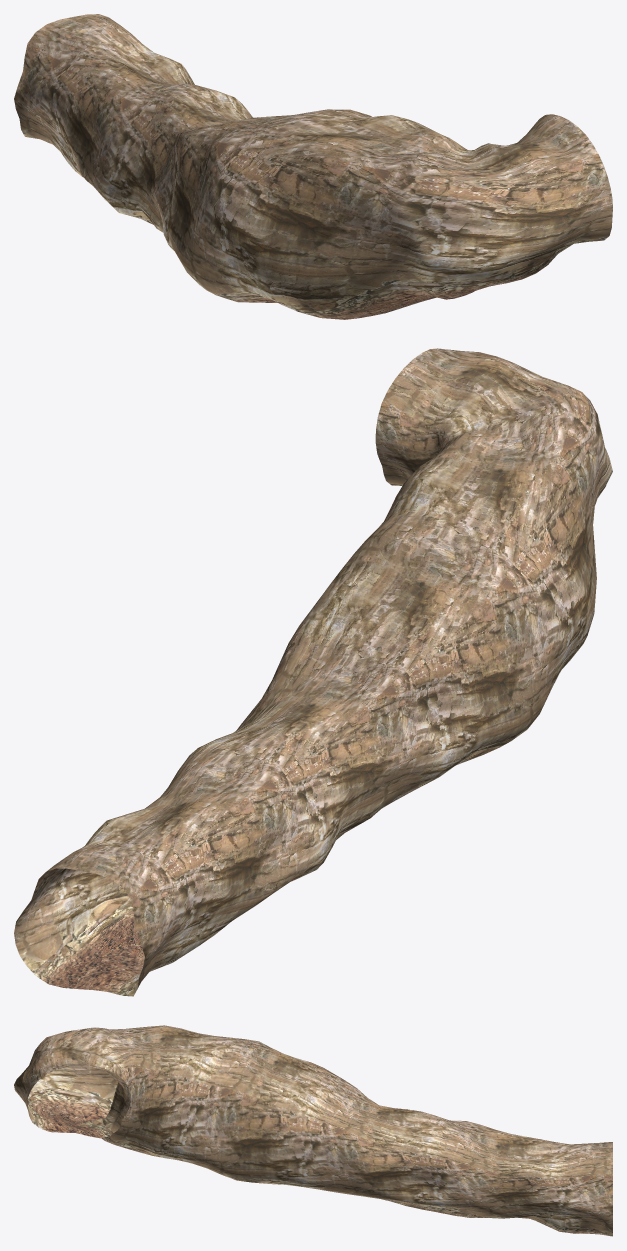
File: thm_tato_cave_s01_r11_mesh_r11.fbx
3 renders of one model, top to bottom at view 1: azimuth 30°, elevation 25°; view 2: azimuth 150°, elevation 25°; view 3: azimuth 270°, elevation 25°, orthographic. The views are drawn at different scales.
Visible parts, largest first — view 1: mesh_node; view 2: mesh_node; view 3: mesh_node.
Part boxes in pixels (x1=…): mesh_node: x1=14, y1=14, x2=612, y2=319; mesh_node: x1=14, y1=348, x2=612, y2=996; mesh_node: x1=14, y1=1025, x2=612, y2=1236.
Bounding box in the file's own units: 20.55 × 22.63 × 65.51.
